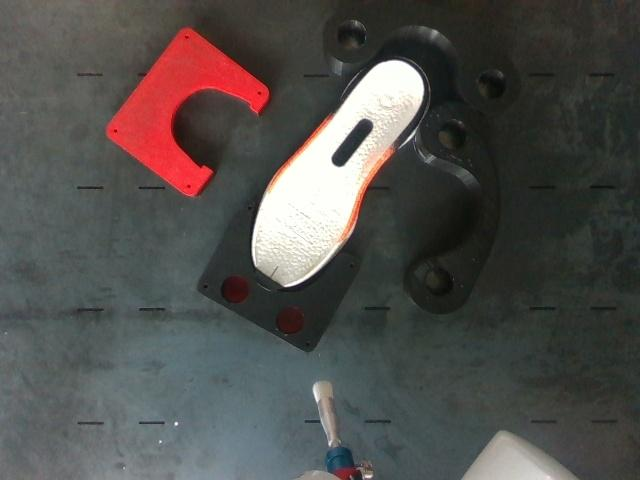shoes: (252, 58, 429, 289)
